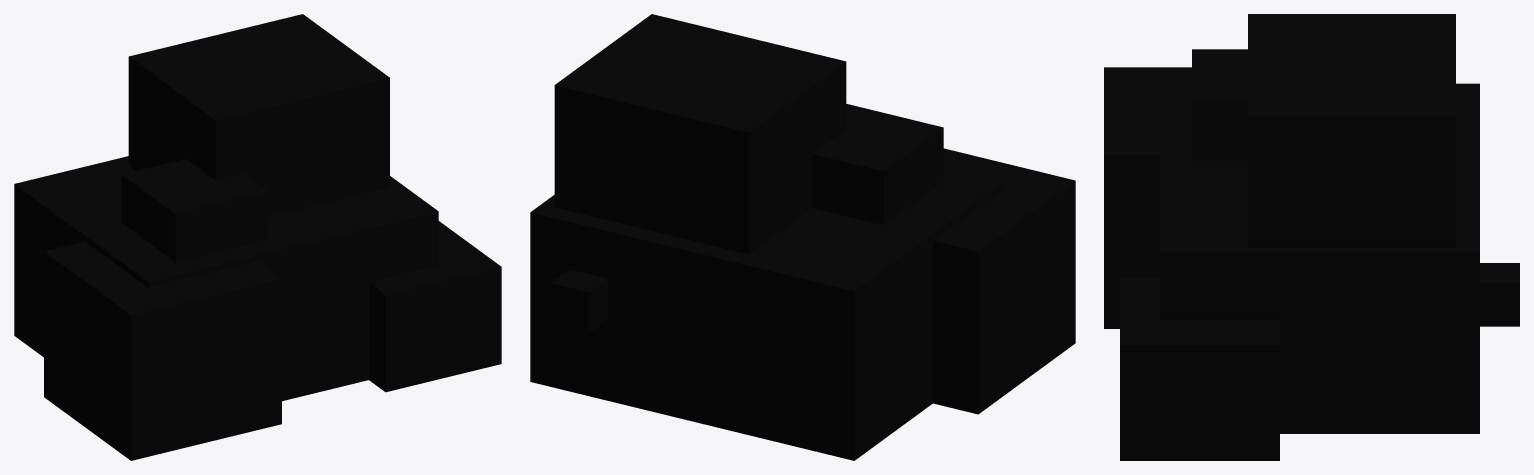
File: FrostBush.obj
The picture shows the model from 3 angles, left to right: view 1: azimuth 30°, elevation 25°; view 2: azimuth 150°, elevation 25°; view 3: azimuth 270°, elevation 25°; orthographic projection. The views are drawn at different scales.
Parts seen in each view (by area): view 1: FrostBush; view 2: FrostBush; view 3: FrostBush.
Boxes of the visible parts, x1=… form: FrostBush: x1=14, y1=14, x2=501, y2=460; FrostBush: x1=530, y1=14, x2=1075, y2=460; FrostBush: x1=1104, y1=14, x2=1519, y2=460.
Size of the model in its own units: 6.5 by 4.3 by 5.2.
